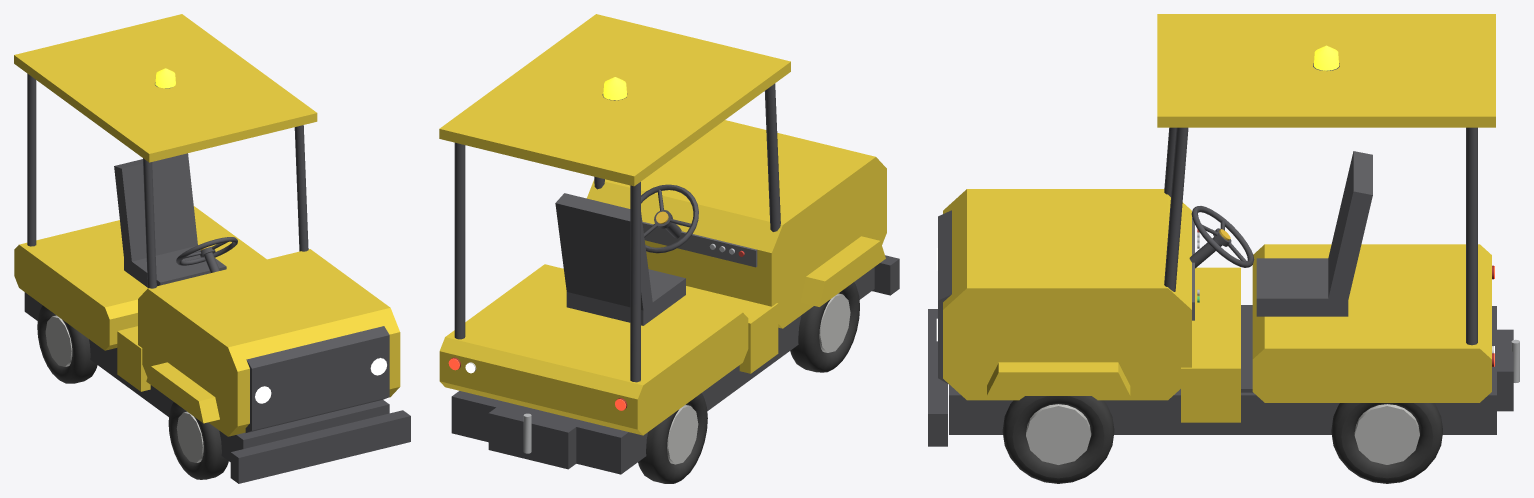
Rendered from BaggageTractor.glb.
The picture shows the model from 3 angles, left to right: view 1: azimuth 30°, elevation 25°; view 2: azimuth 150°, elevation 25°; view 3: azimuth 270°, elevation 25°; orthographic projection. The views are drawn at different scales.
Parts seen in each view (by area): view 1: Body, Wheel_FR, Wheel_RR, SteeringWheel; view 2: Body, Wheel_FR, Wheel_RR, SteeringWheel; view 3: Body, Wheel_FL, Wheel_RL, SteeringWheel.
Boxes of the visible parts, x1,y1,x2,y2 form: Body: (14, 14, 410, 483); Wheel_FR: (168, 402, 228, 479); Wheel_RR: (37, 305, 97, 383); SteeringWheel: (176, 237, 237, 265); Body: (439, 14, 899, 474); Wheel_FR: (790, 282, 859, 372); Wheel_RR: (638, 393, 707, 483); SteeringWheel: (641, 184, 698, 253); Body: (928, 14, 1519, 446); Wheel_FL: (1002, 396, 1114, 483); Wheel_RL: (1331, 403, 1442, 483); SteeringWheel: (1191, 206, 1254, 267).
Size of what is drawn, in the model's own units: 1.42 by 2.16 by 2.97.
